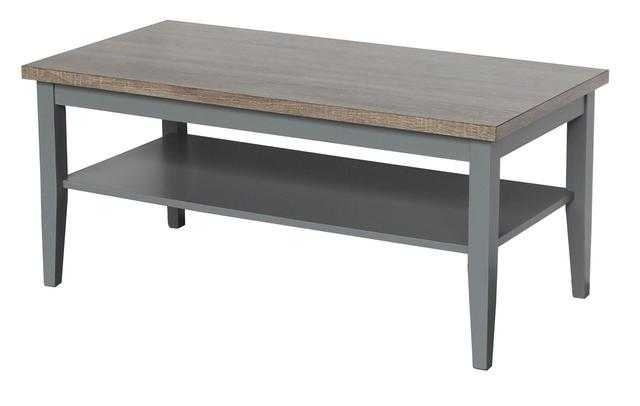obstacle: (22, 21, 607, 368)
